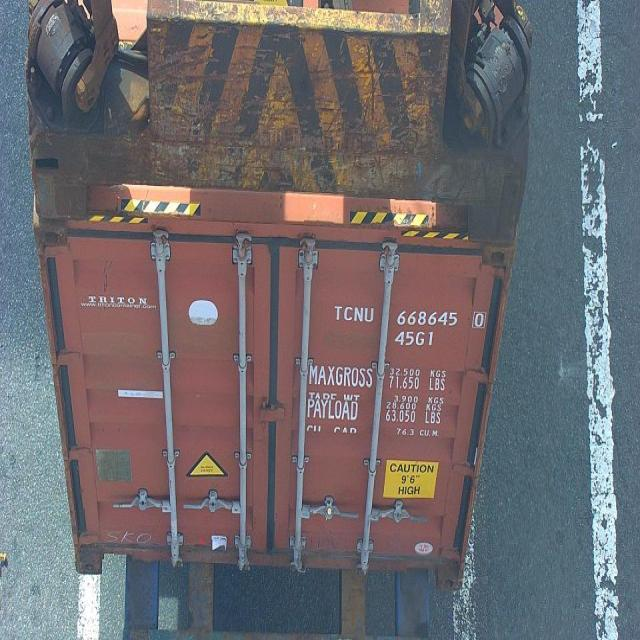ISO: (394, 329, 436, 352)
container_number: (330, 298, 486, 336)
